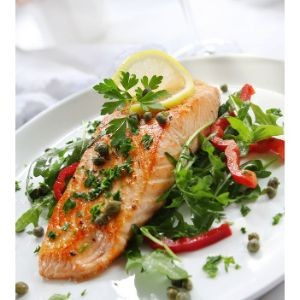tuna_brain food: (55, 117, 171, 264)
